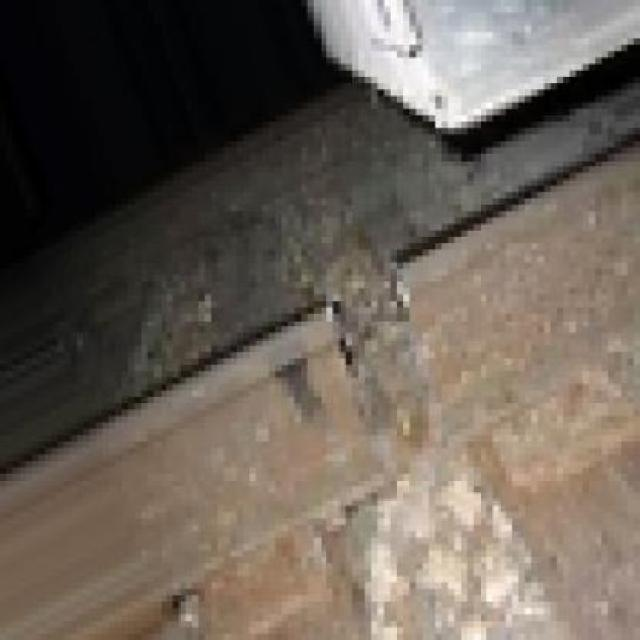defective: (187, 201, 640, 640)
